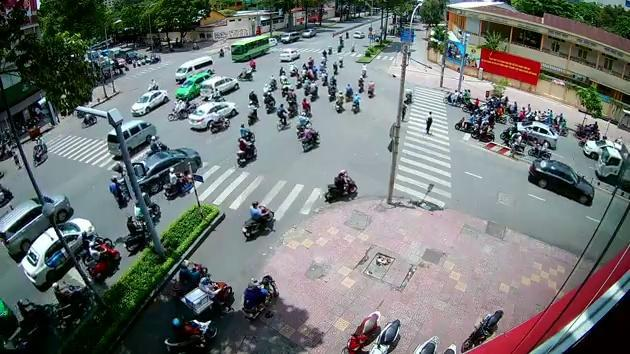xe buyt: (229, 34, 269, 61)
xe hoi: (20, 216, 94, 286), (0, 192, 70, 254), (527, 157, 595, 204), (136, 146, 202, 194), (186, 101, 236, 130), (517, 120, 559, 147), (130, 89, 168, 115), (173, 72, 210, 98), (199, 73, 239, 97)
xe may: (241, 200, 274, 237), (324, 168, 357, 201), (236, 134, 257, 167), (300, 123, 320, 152), (246, 100, 259, 126), (334, 89, 343, 112)
xe van: (106, 119, 157, 156), (173, 55, 215, 81)
